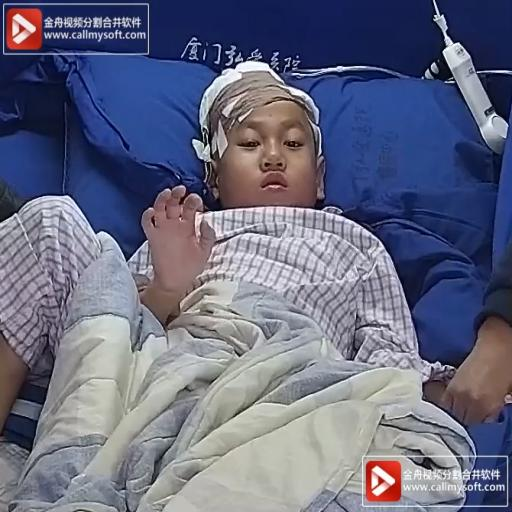Netural: (211, 69, 344, 231)
